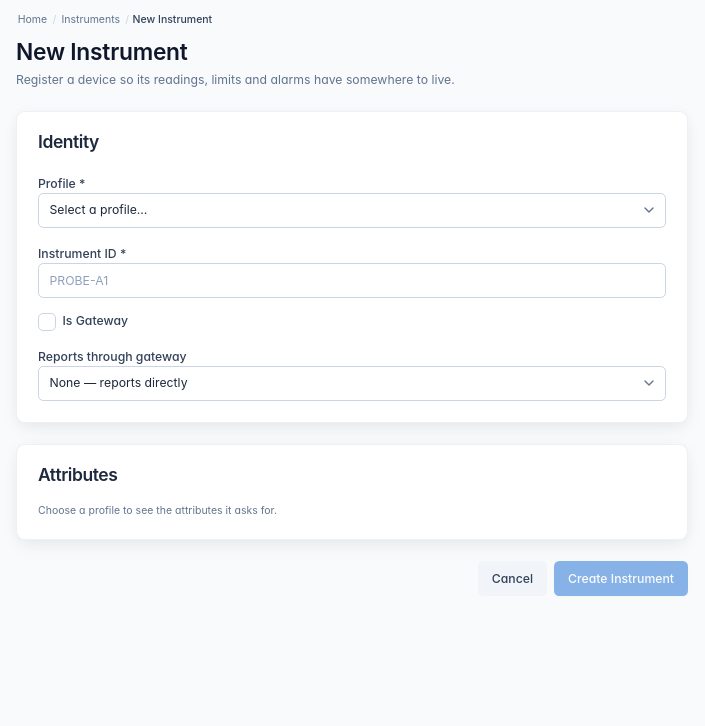
Test: InstrumentCreatePage — switching profile › clears the values when the discard is accepted
Select "Cleanroom-A" in the dropdown labelled "Profile *" at (352, 210), box [38,193,666,228]
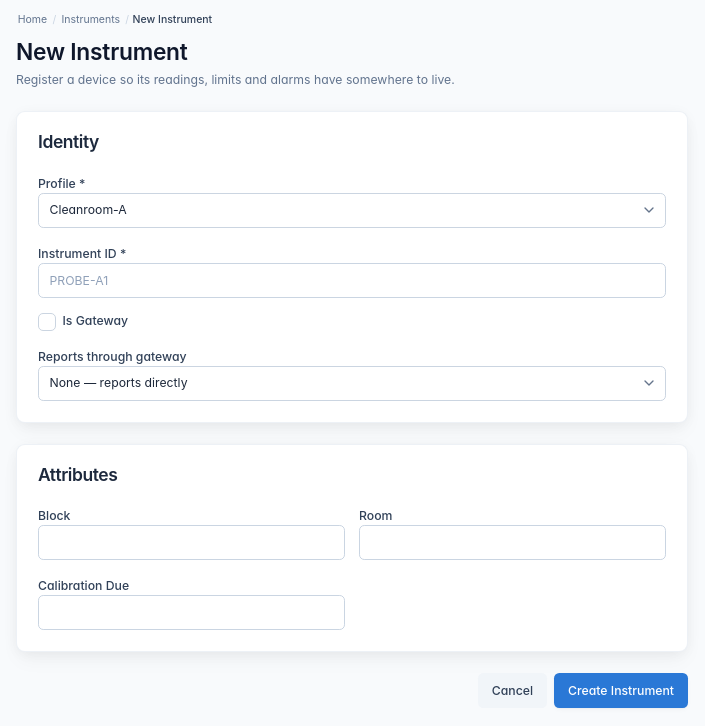
Type "214" into the field labelled "Room".
click(512, 543); type("214")  # box [359,525,666,560]
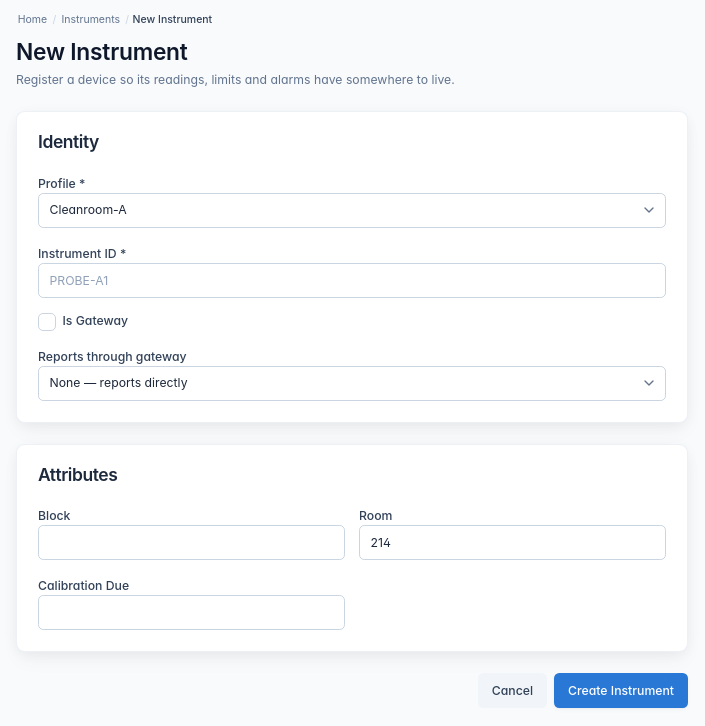
Select "Utility" in the dropdown labelled "Profile *" at (352, 210), box [38,193,666,228]
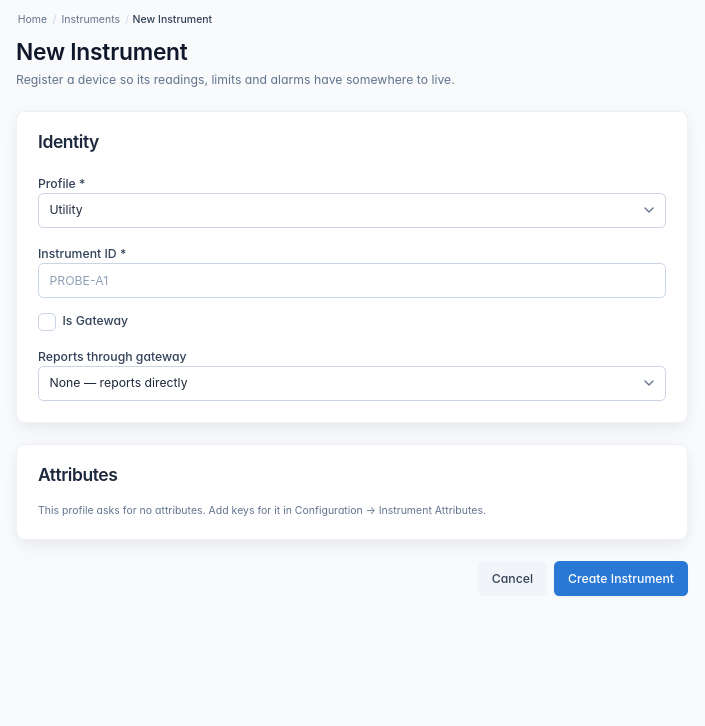
Result: the text "asks for no attributes" is shown at [38,504,486,517]
